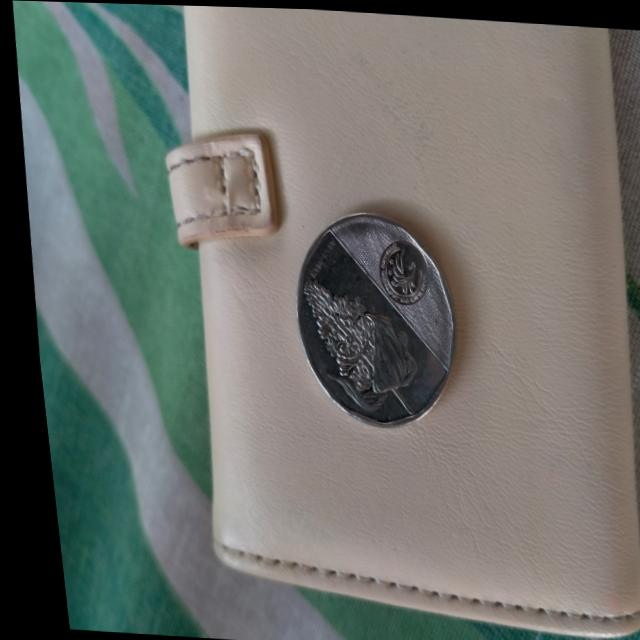10_New_Back: (282, 262, 421, 426)
